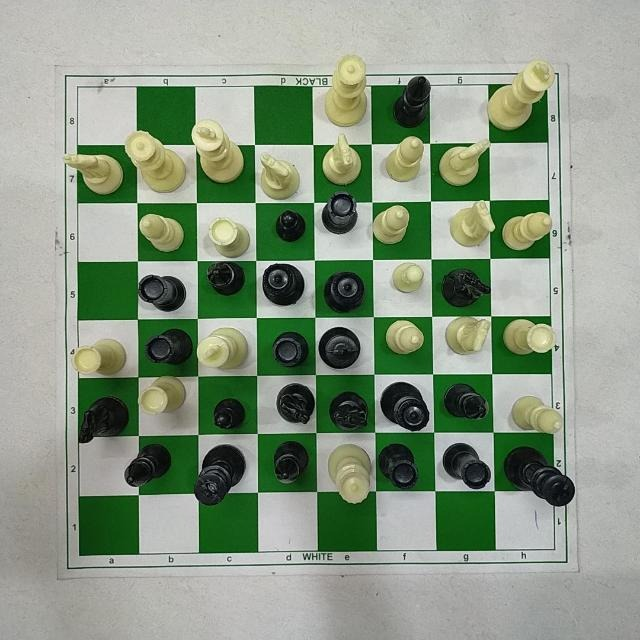black-bishop: (511, 391, 566, 431), (147, 123, 196, 167), (216, 444, 259, 494), (155, 272, 201, 309), (344, 205, 382, 247)
black-king: (132, 504, 195, 576), (133, 195, 196, 245), (269, 319, 313, 361)
black-knight: (194, 72, 246, 130), (333, 439, 374, 491), (207, 328, 249, 369), (215, 277, 257, 313)
black-pawn: (399, 273, 431, 306), (211, 212, 242, 245)
black-queen: (207, 380, 259, 432), (335, 263, 377, 305), (328, 327, 368, 366)
black-rook: (151, 442, 197, 494), (325, 136, 367, 186), (147, 378, 196, 420), (274, 144, 312, 193), (406, 322, 448, 358), (271, 271, 310, 308)
white-bishop: (385, 137, 429, 187), (205, 509, 245, 564), (388, 501, 430, 553), (457, 388, 505, 426), (392, 370, 435, 410), (285, 386, 321, 426)
white-king: (510, 488, 580, 556), (455, 189, 520, 247), (269, 193, 314, 248)
white-knight: (444, 61, 487, 127), (454, 436, 502, 492), (392, 446, 441, 497), (439, 259, 489, 301), (455, 321, 507, 361), (283, 443, 325, 491)
white-pawn: (346, 391, 378, 425)
white-queen: (447, 126, 508, 186), (514, 323, 588, 369), (135, 326, 196, 372)
white-rook: (259, 74, 304, 126), (223, 136, 268, 187), (283, 500, 323, 557), (379, 208, 423, 250)
